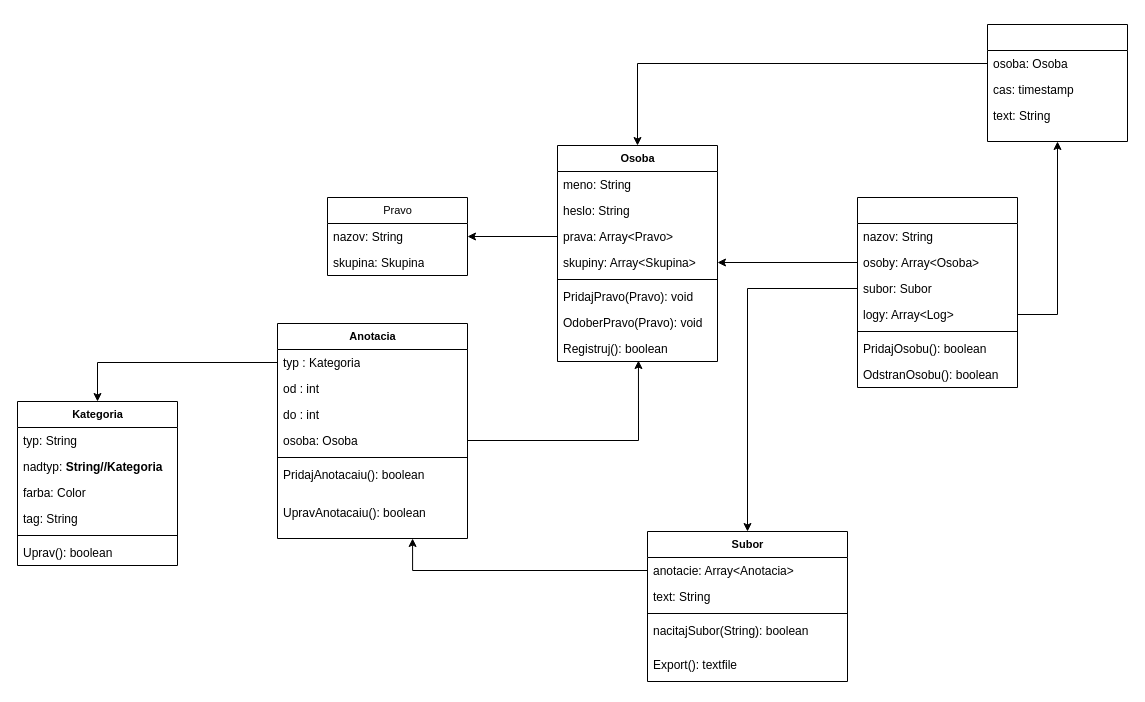
The diagram is 1145 pixels wide and 702 high, and some of its shapes have lost their labels. The box of each missing label's shape, as (x1, y1, x2, y2) in pixels:
Log: (986, 24, 1128, 142)
Skupina: (856, 196, 1018, 388)
